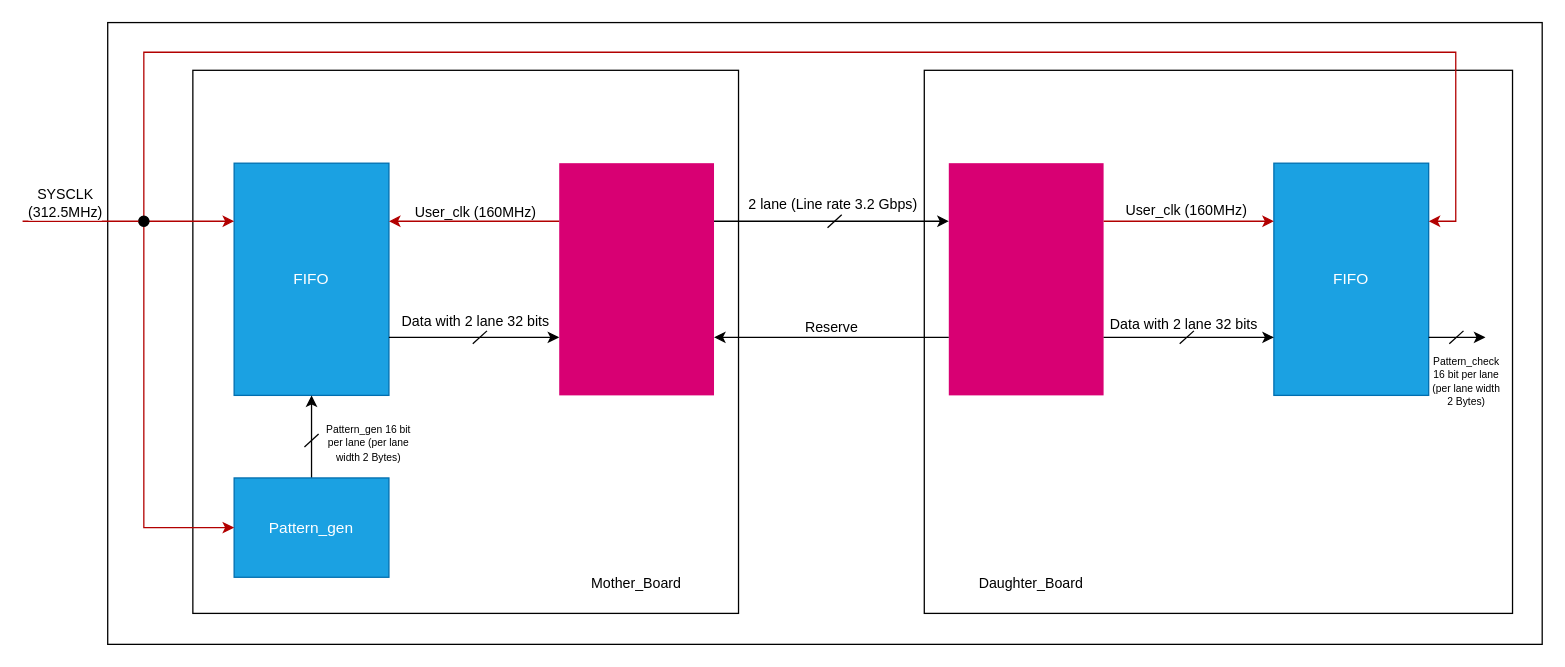
This 1565x667 diagram has some shape labels left out. The shapes that lost their labels are listed below. From the top down, each one's box as (x1, y1, x2, y2) in pixels, then its label:
(559, 163, 713, 395): Aurora_Core_1
(948, 163, 1103, 395): Aurora_Core_2
